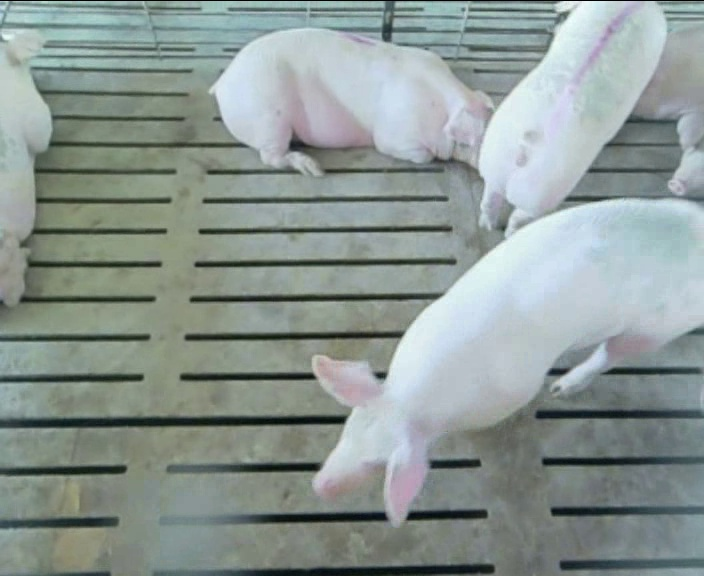pig: (313, 200, 703, 525), (479, 2, 665, 235), (210, 28, 492, 175), (0, 31, 51, 305)
